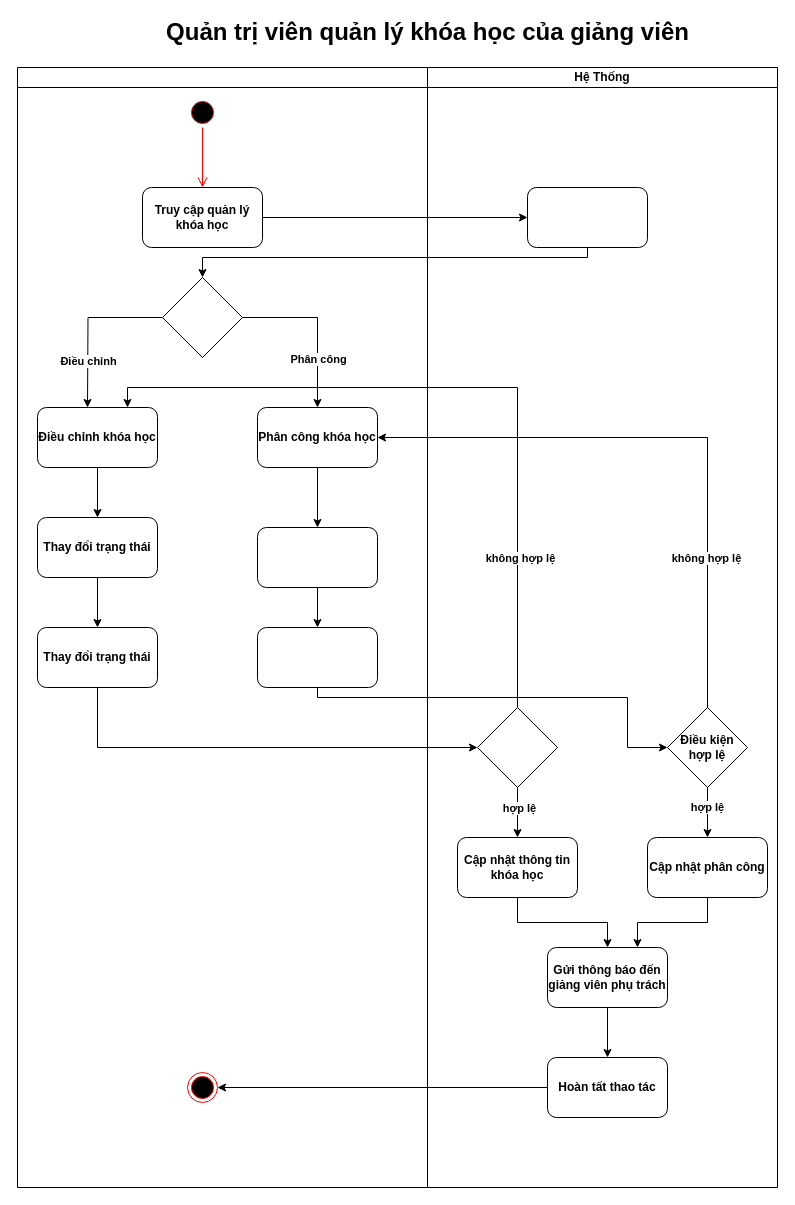
The diagram is 795 pixels wide and 1205 high, and some of its shapes have lost their labels. Here are the shapes that lost their labels. From the top down, the box of each, then its label:
(526, 186, 648, 248): Hiển thị dánh sách khóa học
(162, 276, 242, 358): Chọn thao tác
(256, 526, 378, 588): Chọn khóa học
(16, 66, 428, 1188): Quản trị viên
(256, 626, 378, 688): Chọn giảng viên
(476, 706, 558, 788): thay đổi hợp lệ
